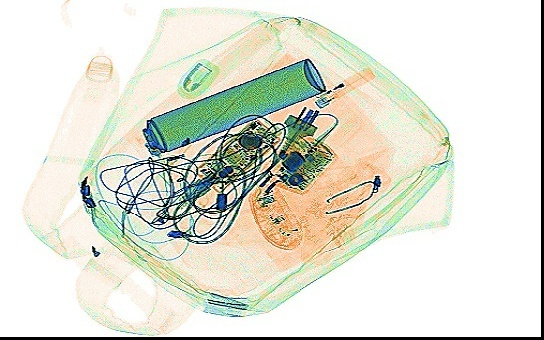lighter: (312, 63, 377, 109)
pressure: (141, 54, 328, 161)
